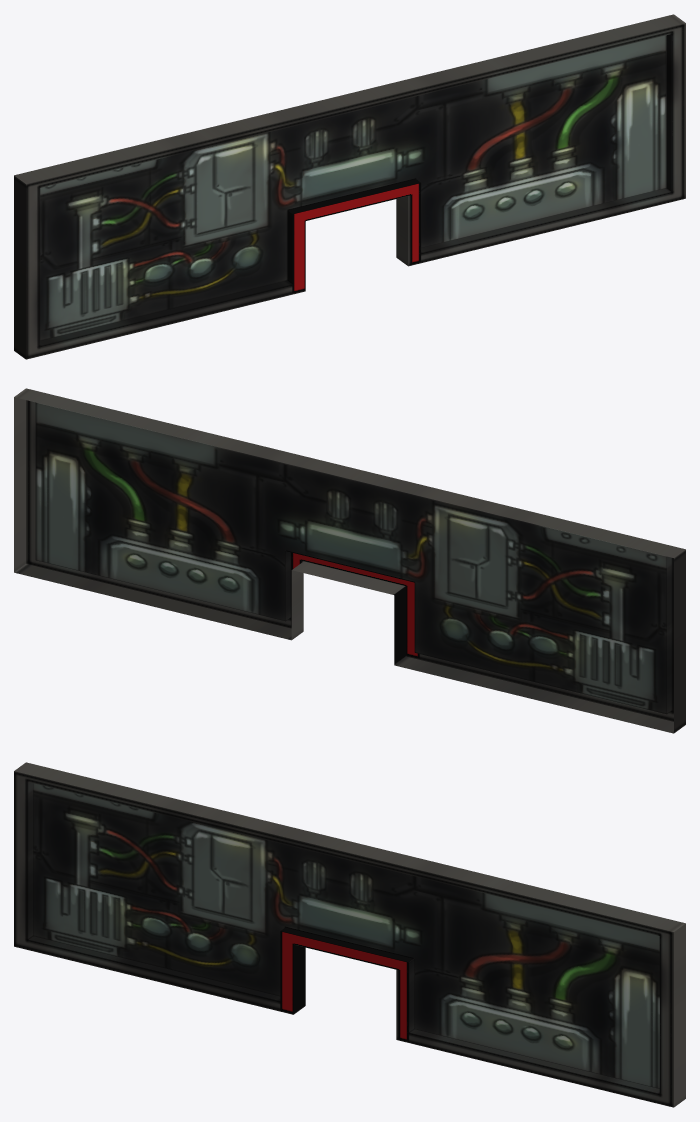
Rendered from NONE_CENTER.fbx.
3 renders of one model, top to bottom at view 1: azimuth 30°, elevation 25°; view 2: azimuth 150°, elevation 25°; view 3: azimuth 330°, elevation 25°, orthographic.
Visible parts, largest first — view 1: wall9; view 2: wall9; view 3: wall9.
Boxes of the visible parts, x1=… form: wall9: x1=14, y1=14, x2=685, y2=359; wall9: x1=14, y1=388, x2=685, y2=733; wall9: x1=14, y1=762, x2=685, y2=1107.
Size of the model in its own units: 40.08 by 10.18 by 1.27.
1 material, 1 textured.
